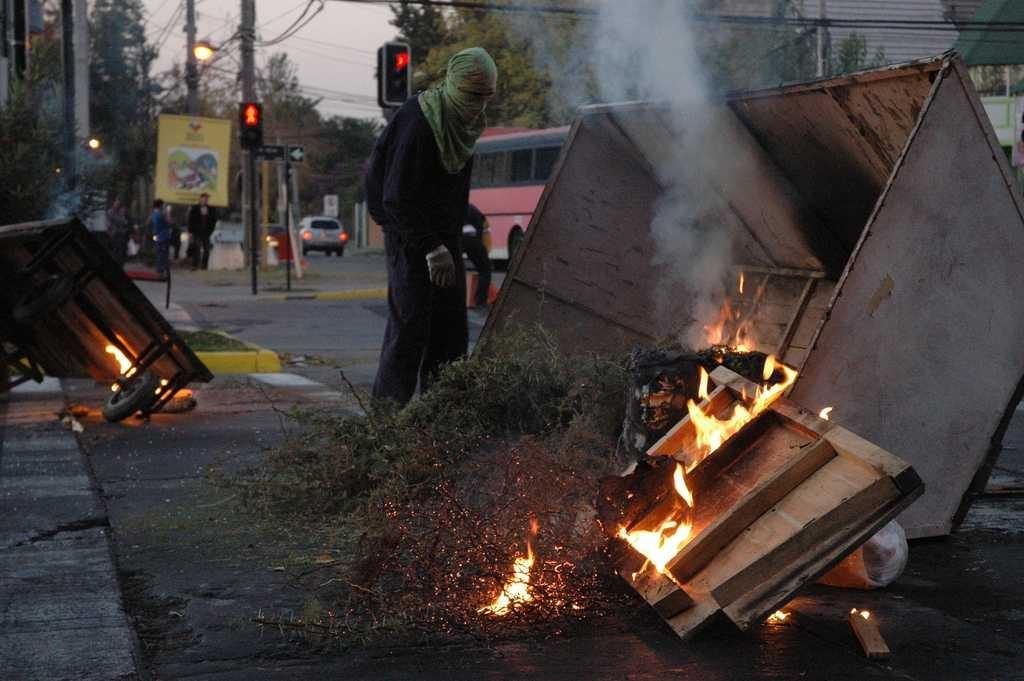fire: (625, 530, 688, 560), (502, 565, 538, 612), (700, 408, 728, 448)
smoke: (608, 10, 702, 103)
